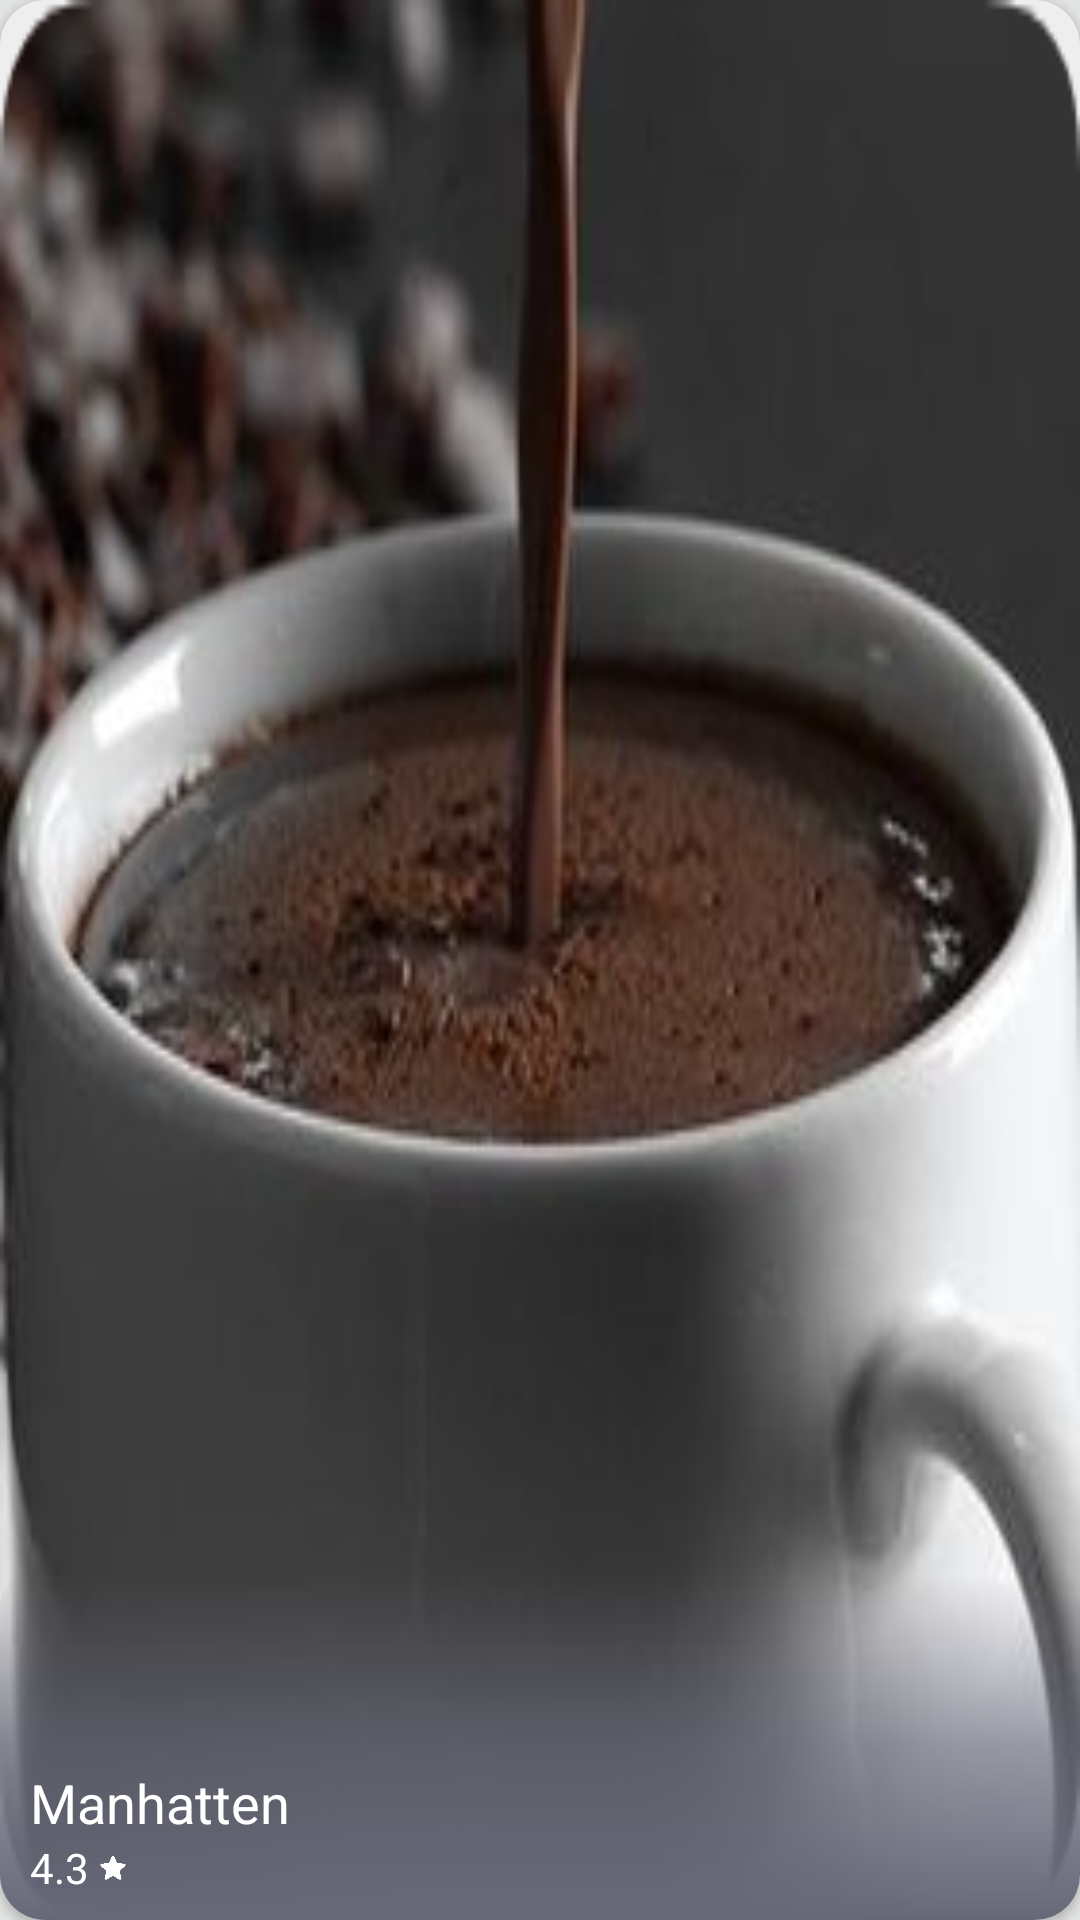

Icons on this 1080*1920 Android screen, each with its box as (x1, y1, x2, y2):
whitestar: (100, 1856, 126, 1880)
